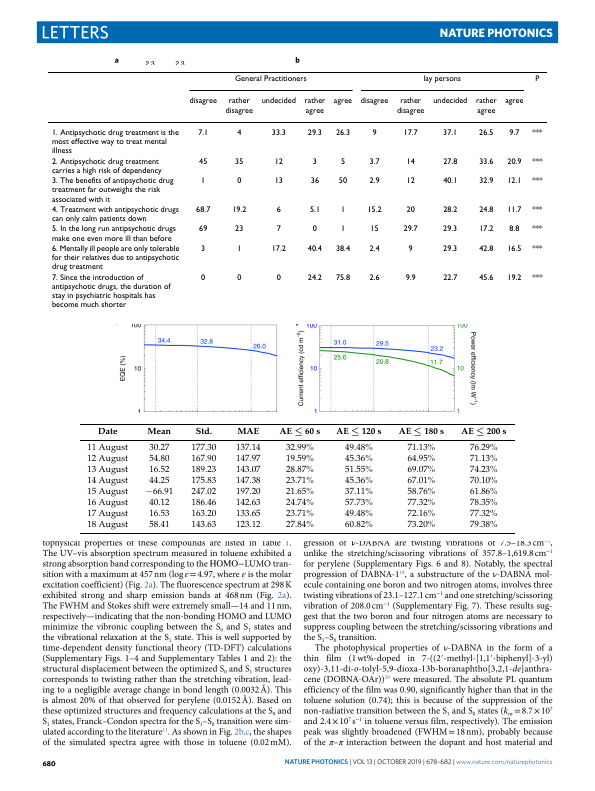borderless: (46, 70, 548, 318), (79, 422, 515, 533)
cell: (50, 273, 171, 310), (50, 244, 180, 272), (50, 128, 179, 156), (50, 176, 174, 205), (50, 224, 176, 244), (50, 205, 179, 224), (50, 157, 162, 176), (233, 74, 307, 84), (395, 97, 425, 116), (224, 97, 253, 116), (335, 427, 382, 437), (397, 427, 444, 437), (460, 427, 507, 437), (86, 443, 128, 454), (86, 454, 128, 465), (86, 465, 128, 476), (86, 476, 128, 487), (86, 487, 128, 498), (86, 498, 128, 509), (86, 509, 128, 520), (86, 520, 128, 531), (303, 97, 326, 116), (474, 97, 497, 116), (278, 427, 321, 437), (422, 74, 461, 84), (343, 443, 373, 454), (406, 443, 436, 454), (468, 443, 498, 454), (343, 454, 373, 465), (406, 454, 436, 465), (468, 454, 498, 465), (343, 465, 373, 476), (406, 465, 436, 476), (468, 465, 498, 476), (343, 476, 373, 487), (406, 476, 436, 487), (468, 476, 498, 487), (144, 487, 174, 498), (343, 487, 373, 498), (406, 487, 436, 498), (468, 487, 498, 498), (343, 498, 373, 509), (406, 498, 436, 509), (468, 498, 498, 509), (343, 509, 373, 520), (406, 509, 436, 520), (468, 509, 498, 520), (343, 520, 373, 531), (406, 520, 436, 531), (468, 520, 498, 531), (260, 97, 296, 106), (432, 97, 468, 106), (285, 443, 314, 454), (285, 454, 314, 465), (285, 465, 314, 476), (285, 476, 314, 487), (285, 487, 314, 498), (285, 498, 314, 509), (285, 509, 314, 520), (285, 520, 314, 531), (190, 443, 217, 454), (234, 443, 261, 454), (190, 454, 217, 465), (234, 454, 261, 465), (190, 465, 217, 476), (234, 465, 261, 476), (190, 476, 217, 487), (234, 476, 261, 487), (190, 487, 217, 498), (234, 487, 261, 498), (190, 498, 217, 509), (234, 498, 261, 509), (190, 509, 217, 520), (234, 509, 261, 520), (190, 520, 217, 531), (234, 520, 261, 531), (359, 97, 389, 106), (188, 97, 217, 106), (148, 443, 170, 454), (148, 454, 170, 465), (148, 465, 170, 476), (148, 476, 170, 487), (148, 498, 170, 509), (148, 509, 170, 520), (148, 520, 170, 531), (146, 427, 172, 435), (332, 97, 353, 106), (236, 427, 259, 435), (504, 97, 524, 106), (96, 427, 118, 435), (334, 244, 351, 254), (334, 273, 351, 283), (270, 128, 286, 138), (306, 128, 322, 138), (334, 128, 350, 138), (402, 128, 418, 138), (442, 128, 458, 138), (478, 128, 494, 138), (442, 157, 458, 167), (478, 157, 494, 167), (506, 157, 522, 167), (442, 176, 458, 186), (478, 176, 494, 186), (506, 176, 522, 186), (195, 205, 211, 215), (231, 205, 247, 215), (366, 205, 382, 215), (442, 205, 458, 215), (478, 205, 494, 215), (506, 205, 522, 215), (402, 224, 418, 234), (442, 224, 458, 234), (478, 224, 494, 234), (270, 244, 286, 254), (306, 244, 322, 254), (442, 244, 458, 254), (478, 244, 494, 254), (506, 244, 522, 254), (306, 273, 322, 283), (442, 273, 458, 283), (478, 273, 494, 283), (506, 273, 522, 283), (194, 427, 212, 435), (197, 128, 209, 138), (508, 128, 520, 138), (531, 128, 543, 138), (368, 157, 380, 167), (531, 157, 543, 167), (368, 176, 380, 186), (531, 176, 543, 186), (308, 205, 320, 215), (531, 205, 543, 215), (508, 224, 520, 234), (531, 224, 543, 234), (368, 244, 380, 254), (531, 244, 543, 254), (368, 273, 380, 283), (404, 273, 416, 283), (531, 273, 543, 283), (309, 176, 320, 186), (337, 176, 348, 186), (198, 157, 208, 167), (234, 157, 244, 167), (273, 157, 283, 167), (405, 157, 415, 167), (273, 176, 283, 186), (405, 176, 415, 186), (405, 205, 415, 215), (198, 224, 208, 234), (234, 224, 244, 234), (369, 224, 379, 234), (339, 157, 346, 167), (339, 205, 346, 215), (339, 224, 346, 234), (534, 74, 540, 84), (236, 128, 242, 138), (371, 128, 377, 138), (311, 157, 317, 167), (200, 176, 206, 186), (236, 176, 242, 186), (275, 205, 281, 215), (275, 224, 281, 234), (311, 224, 317, 234), (200, 244, 206, 254), (236, 244, 242, 254), (407, 244, 413, 254), (200, 273, 206, 283), (236, 273, 242, 283), (275, 273, 281, 283)
